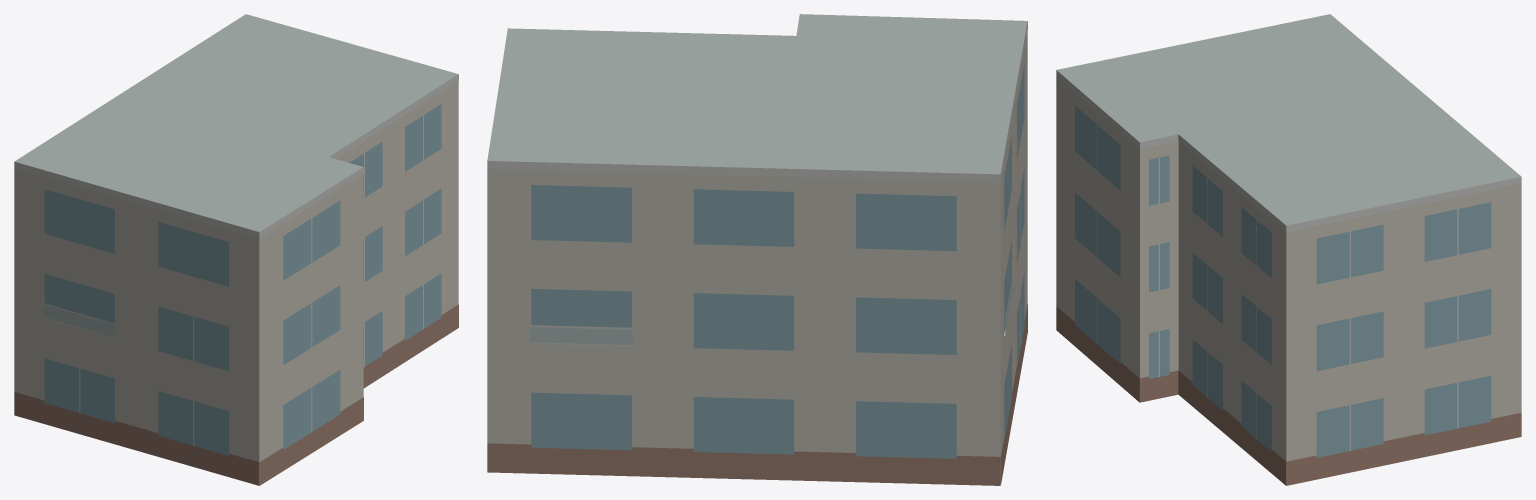
File: survey-upis-32806550.glb
The picture shows the model from 3 angles, left to right: view 1: azimuth 30°, elevation 25°; view 2: azimuth 150°, elevation 25°; view 3: azimuth 270°, elevation 25°; orthographic projection. The views are drawn at different scales.
Parts seen in each view (by area): view 1: survey-upis-32806550.tmp; view 2: survey-upis-32806550.tmp; view 3: survey-upis-32806550.tmp.
Part boxes in pixels (<box>): survey-upis-32806550.tmp: <box>14,14,458,485</box>; survey-upis-32806550.tmp: <box>487,14,1027,485</box>; survey-upis-32806550.tmp: <box>1056,14,1521,485</box>.
Size of the model in its own units: 15.97 by 9.15 by 14.84.
